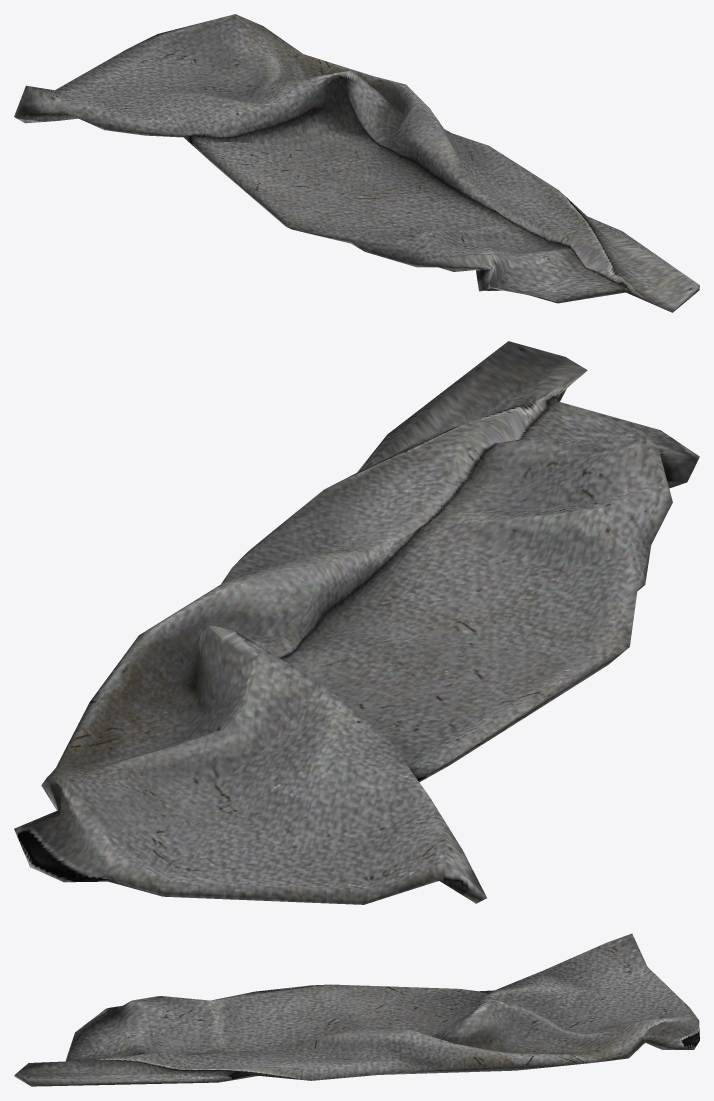
Rendered from towel_floor2.DAE.
The picture shows the model from 3 angles, top to bottom: view 1: azimuth 30°, elevation 25°; view 2: azimuth 150°, elevation 25°; view 3: azimuth 270°, elevation 25°; orthographic projection. The views are drawn at different scales.
Parts seen in each view (by area): view 1: floor2; view 2: floor2; view 3: floor2.
Boxes of the visible parts, x1,y1,x2,y2 form: floor2: (14,14,699,312); floor2: (14,341,699,904); floor2: (14,933,699,1086).
Size of the model in its own units: 0.6828 by 0.1084 by 1.41.
